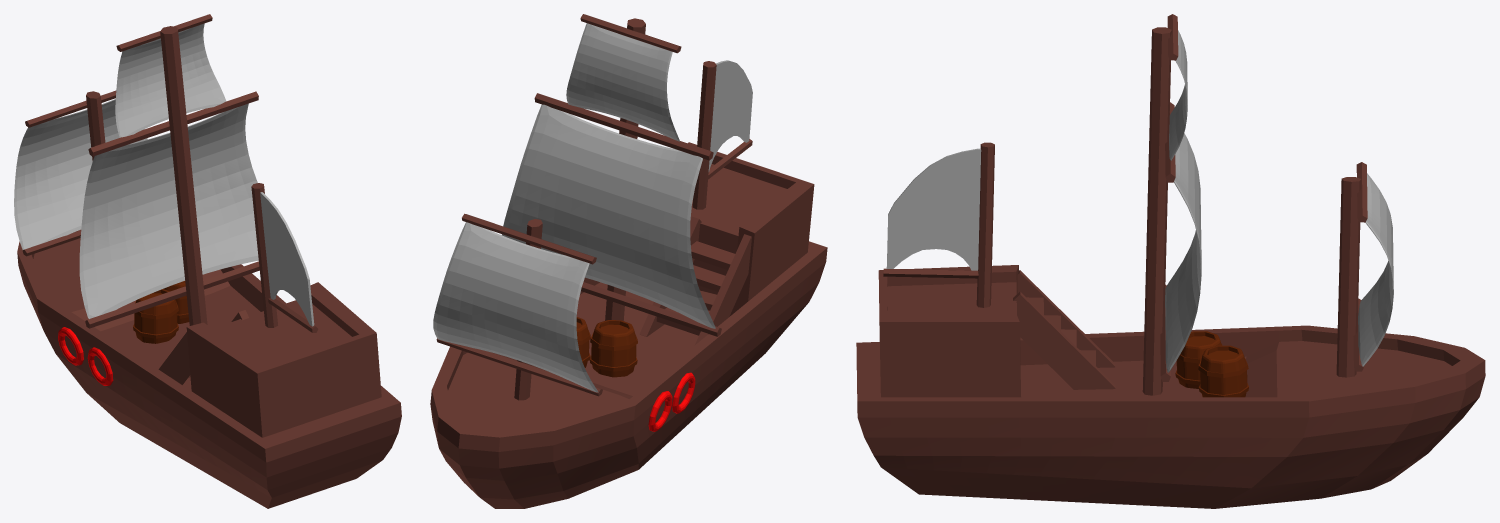
File: bigBoat.glb
3 views of the same model, side by side, from view 1: azimuth 30°, elevation 25°; view 2: azimuth 150°, elevation 25°; view 3: azimuth 270°, elevation 25° (orthographic). The views are drawn at different scales.
Parts seen in each view (by area): view 1: Ship (Perahu), Sail1, Sail3, Sail2, SailTail (Bendera), Barrel (Tabung Anggur), Torus, Torus.001; view 2: Ship (Perahu), Sail1, Sail3, Sail2, SailTail (Bendera), Barrel (Tabung Anggur), Torus, Torus.001, Barrel (Tabung Anggur).001; view 3: Ship (Perahu), SailTail (Bendera), Sail1, Sail3, Barrel (Tabung Anggur).001, Barrel (Tabung Anggur), Sail2.
Boxes of the visible parts, x1=… form: Ship (Perahu): x1=17, y1=14, x2=401, y2=508; Sail1: x1=79, y1=103, x2=258, y2=318; Sail3: x1=14, y1=99, x2=147, y2=249; Sail2: x1=115, y1=23, x2=226, y2=137; SailTail (Bendera): x1=260, y1=192, x2=314, y2=326; Barrel (Tabung Anggur): x1=133, y1=289, x2=178, y2=343; Torus: x1=58, y1=327, x2=83, y2=365; Torus.001: x1=87, y1=347, x2=113, y2=385; Ship (Perahu): x1=430, y1=14, x2=827, y2=508; Sail1: x1=502, y1=104, x2=715, y2=328; Sail3: x1=433, y1=222, x2=598, y2=392; Sail2: x1=566, y1=23, x2=679, y2=141; SailTail (Bendera): x1=708, y1=60, x2=752, y2=171; Barrel (Tabung Anggur): x1=589, y1=320, x2=637, y2=377; Torus: x1=648, y1=391, x2=672, y2=431; Torus.001: x1=672, y1=372, x2=695, y2=413; Barrel (Tabung Anggur).001: x1=576, y1=317, x2=590, y2=367; Ship (Perahu): x1=856, y1=14, x2=1485, y2=508; SailTail (Bendera): x1=886, y1=148, x2=981, y2=270; Sail1: x1=1165, y1=133, x2=1201, y2=372; Sail3: x1=1358, y1=173, x2=1393, y2=366; Barrel (Tabung Anggur).001: x1=1198, y1=345, x2=1248, y2=397; Barrel (Tabung Anggur): x1=1175, y1=331, x2=1222, y2=388; Sail2: x1=1169, y1=30, x2=1187, y2=160.
Bounding box in the file's own units: 166 × 310 × 398.
